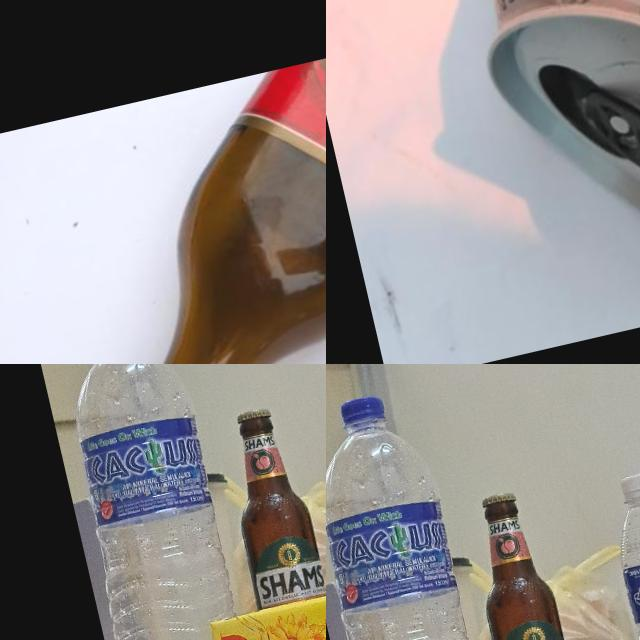aba de lata: (575, 72, 640, 207)
caixinha: (206, 576, 326, 640)
garrafa de vidro: (20, 9, 326, 364), (215, 397, 326, 621), (460, 481, 579, 640)
garrafa plástica: (55, 364, 271, 640), (326, 414, 516, 640), (603, 460, 640, 640)
lata: (442, 0, 640, 275)
tampa plástica: (337, 388, 388, 433), (619, 463, 640, 504)
